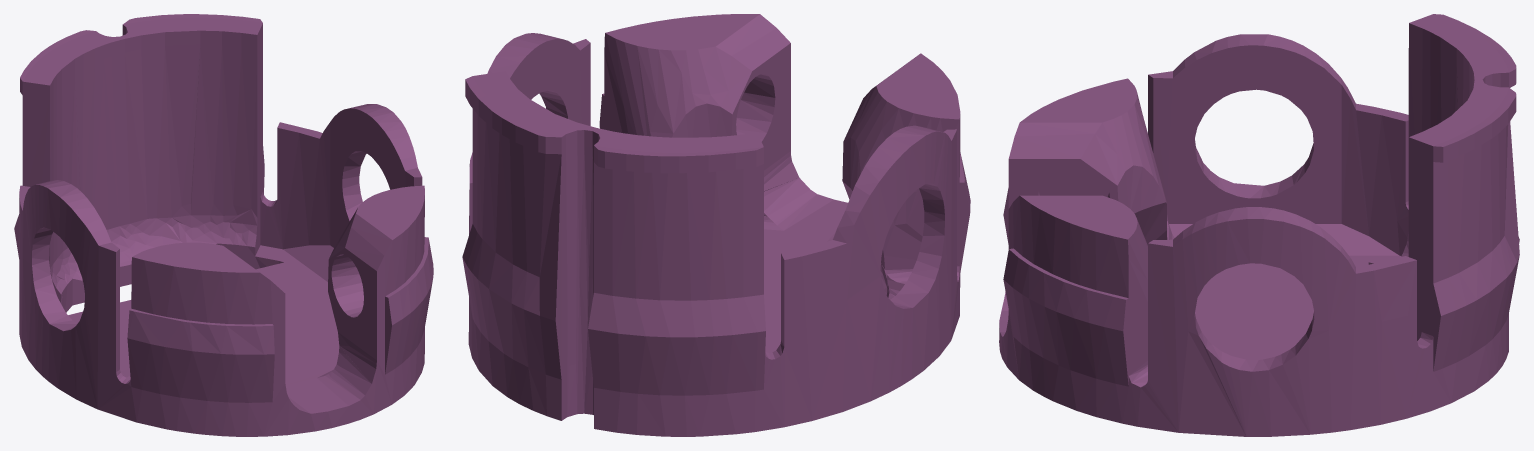
Rendered from i02_head_left_eye_vertical_visual_0.obj.
The picture shows the model from 3 angles, left to right: view 1: azimuth 30°, elevation 25°; view 2: azimuth 150°, elevation 25°; view 3: azimuth 270°, elevation 25°; orthographic projection. The views are drawn at different scales.
Parts seen in each view (by area): view 1: i02.head.eyeAdaptor.left_visual.001; view 2: i02.head.eyeAdaptor.left_visual.001; view 3: i02.head.eyeAdaptor.left_visual.001.
Boxes of the visible parts, x1=… form: i02.head.eyeAdaptor.left_visual.001: x1=14, y1=14, x2=433, y2=436; i02.head.eyeAdaptor.left_visual.001: x1=462, y1=14, x2=970, y2=436; i02.head.eyeAdaptor.left_visual.001: x1=999, y1=14, x2=1519, y2=436.
Bounding box in the file's own units: 0.1896 × 0.1261 × 0.225.
